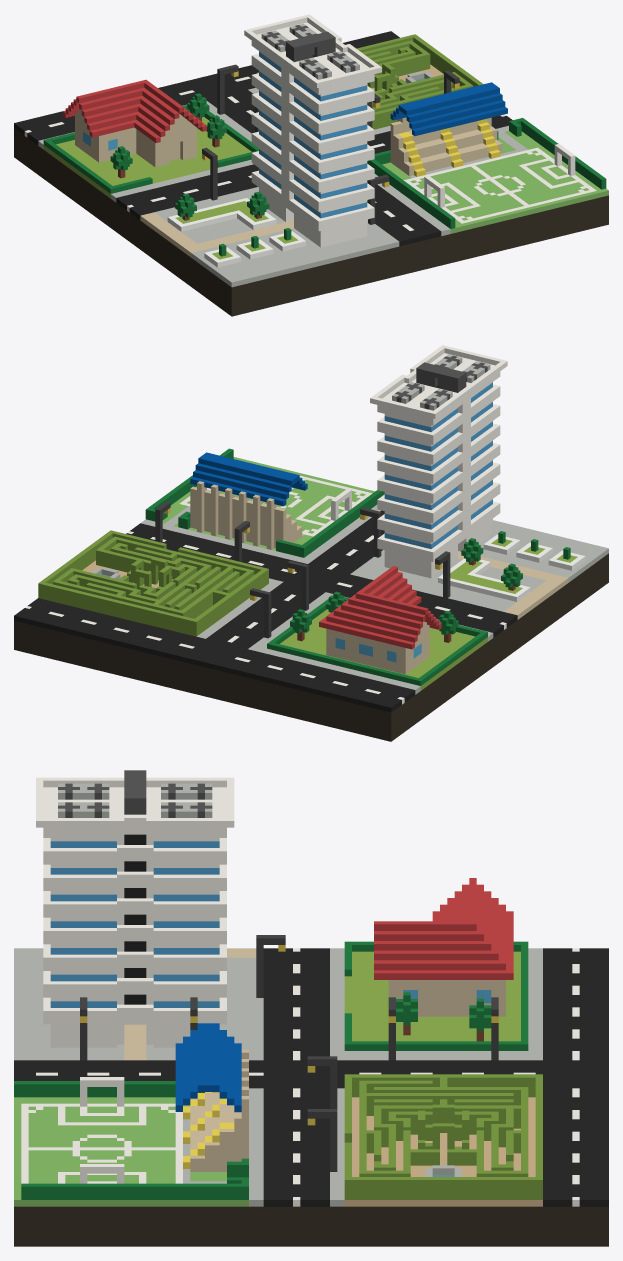
The model's file is Horta-Guinardo.glb.
3 views of the same model, one above another, from view 1: azimuth 30°, elevation 25°; view 2: azimuth 150°, elevation 25°; view 3: azimuth 270°, elevation 25° (orthographic). The views are drawn at different scales.
Visible parts, largest first — view 1: Untitled.001; view 2: Untitled.001; view 3: Untitled.001.
Boxes of the visible parts, x1,y1,x2,y2 form: Untitled.001: (14, 14, 608, 316); Untitled.001: (14, 345, 608, 741); Untitled.001: (14, 770, 608, 1246).
Bounding box in the file's own units: 8.1 × 4.4 × 8.1.
1 material, 1 textured.
